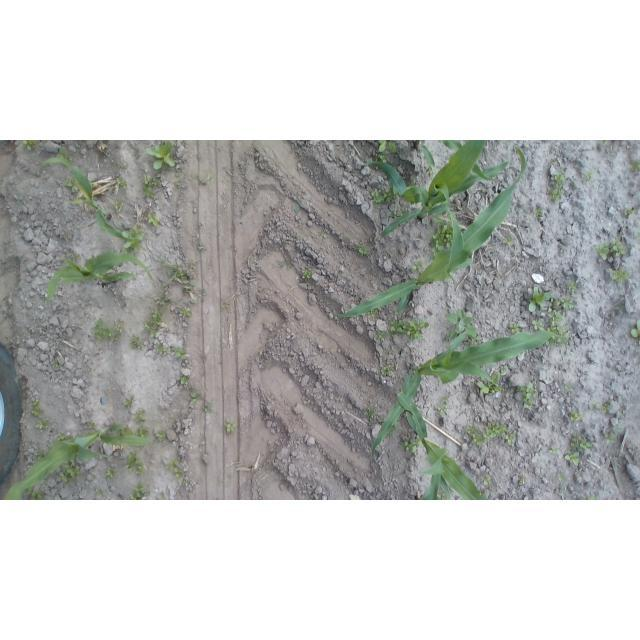Maize: (330, 140, 526, 317), (371, 331, 567, 462), (3, 422, 159, 500), (362, 159, 511, 238), (395, 391, 489, 500), (40, 158, 129, 240), (46, 252, 157, 307), (408, 141, 500, 184)
Weeds: (429, 211, 463, 260), (390, 317, 429, 340), (444, 308, 476, 336), (146, 141, 175, 170), (595, 235, 625, 260), (122, 224, 145, 254), (527, 286, 551, 313), (477, 371, 504, 394), (516, 381, 538, 409), (59, 459, 82, 484), (547, 173, 565, 203), (145, 309, 163, 338), (372, 188, 396, 209), (166, 459, 186, 484), (125, 451, 145, 476), (164, 266, 188, 286), (483, 422, 507, 442), (545, 327, 569, 346), (142, 175, 161, 198), (93, 318, 111, 340), (571, 433, 592, 451), (467, 425, 484, 445), (130, 483, 150, 500), (547, 308, 563, 327), (401, 438, 421, 453), (551, 296, 576, 308), (26, 485, 45, 500), (30, 399, 45, 418), (611, 269, 630, 283), (630, 320, 640, 345), (379, 140, 398, 153), (63, 177, 78, 193), (112, 321, 124, 341), (156, 294, 173, 308), (59, 147, 73, 162), (130, 335, 145, 349), (154, 343, 171, 355), (565, 451, 579, 465), (224, 419, 237, 434), (34, 418, 50, 430), (111, 199, 123, 214), (135, 409, 147, 424), (21, 141, 37, 152), (412, 261, 425, 274), (174, 347, 187, 360), (355, 245, 370, 256), (105, 468, 117, 481), (148, 211, 159, 225), (502, 235, 517, 245), (508, 322, 520, 334), (55, 433, 73, 441), (571, 410, 584, 421), (365, 408, 376, 421), (381, 365, 394, 376), (468, 335, 481, 346), (155, 428, 166, 441), (136, 427, 149, 438), (123, 396, 134, 409), (480, 475, 492, 486), (191, 392, 202, 404), (629, 160, 640, 172), (532, 319, 544, 330), (34, 450, 47, 460), (301, 268, 312, 279), (506, 433, 517, 444), (604, 433, 616, 443), (567, 280, 577, 292), (374, 153, 386, 163), (584, 170, 594, 182), (624, 207, 636, 217), (179, 308, 192, 317), (447, 331, 458, 341), (437, 405, 447, 416), (533, 207, 543, 217), (159, 258, 170, 267), (117, 178, 128, 187), (601, 404, 612, 413), (283, 258, 291, 270), (121, 427, 133, 435), (367, 308, 377, 317), (436, 492, 447, 500), (180, 376, 189, 385), (221, 301, 229, 311), (426, 166, 433, 177), (390, 211, 399, 219), (387, 428, 395, 437), (578, 496, 596, 500), (442, 395, 450, 404), (549, 447, 559, 454), (175, 167, 182, 177), (558, 473, 566, 481), (378, 330, 386, 338), (407, 180, 415, 188), (95, 488, 103, 496), (88, 420, 96, 428), (184, 285, 193, 292), (565, 383, 574, 390), (614, 425, 623, 432), (199, 242, 206, 251), (53, 359, 60, 367), (206, 173, 214, 180), (394, 422, 402, 429), (294, 204, 301, 212), (205, 405, 212, 413), (157, 493, 165, 500), (501, 365, 508, 373), (615, 305, 626, 310), (592, 403, 601, 409), (71, 253, 80, 259), (90, 181, 97, 188), (399, 209, 406, 216), (120, 162, 127, 168), (190, 263, 196, 270), (549, 159, 555, 165), (175, 181, 181, 187), (373, 217, 379, 223), (601, 140, 607, 146), (191, 280, 197, 286), (520, 477, 525, 484), (479, 491, 486, 496), (202, 289, 207, 296), (108, 186, 114, 191), (191, 174, 197, 179), (190, 300, 196, 304), (78, 140, 83, 144), (380, 416, 385, 420), (318, 230, 322, 235), (92, 476, 97, 480), (638, 233, 640, 239), (393, 166, 397, 169)
